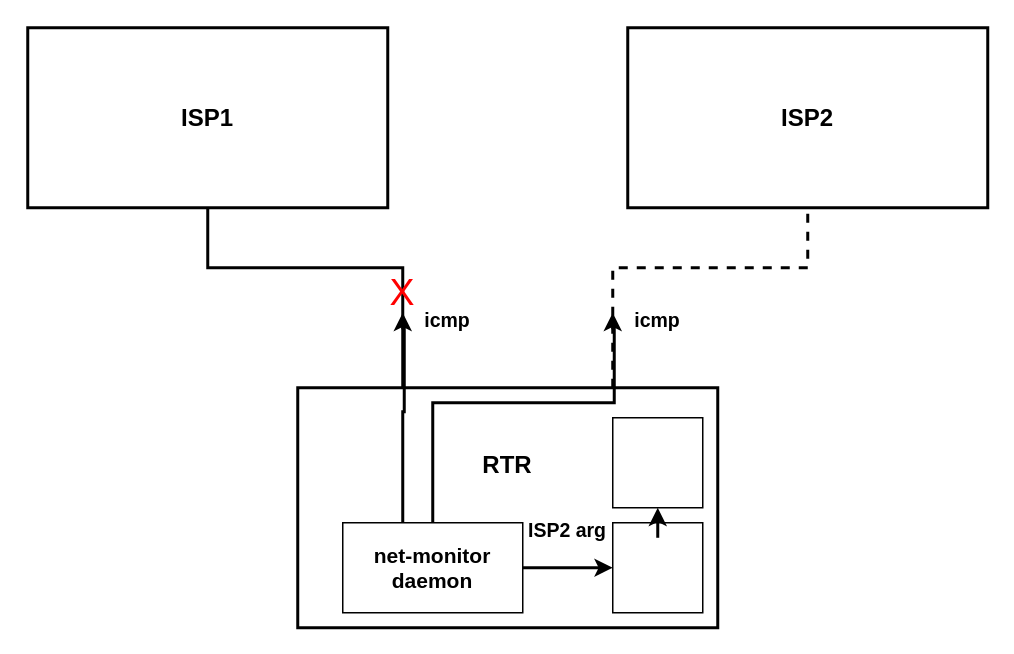
This 1014x654 diagram has some shape labels left out. Here are the shapes that lost their labels. From the top down, the centre of each, then its label:
the point at 657,462: ip r replace default
the point at 657,567: bash script
